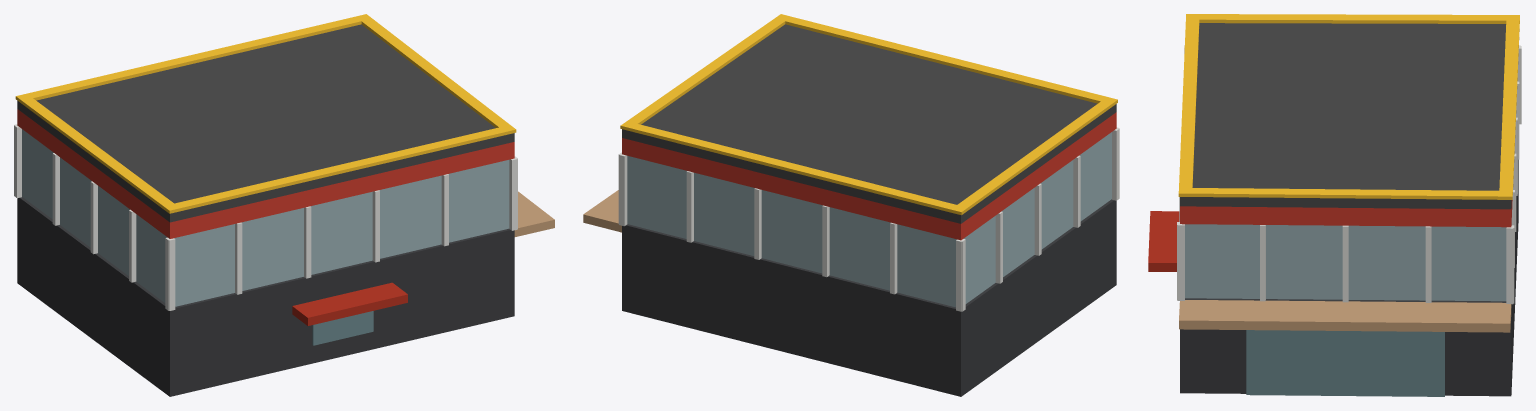
The model's file is mcdonalds.glb.
The picture shows the model from 3 angles, left to right: view 1: azimuth 30°, elevation 25°; view 2: azimuth 150°, elevation 25°; view 3: azimuth 270°, elevation 25°; orthographic projection. The views are drawn at different scales.
Parts seen in each view (by area): view 1: mcdonalds; view 2: mcdonalds; view 3: mcdonalds.
Boxes of the visible parts, x1=… form: mcdonalds: x1=14, y1=14, x2=554, y2=396; mcdonalds: x1=583, y1=14, x2=1119, y2=396; mcdonalds: x1=1148, y1=14, x2=1521, y2=396.
Size of the model in its own units: 19.62 by 9 by 15.21.
